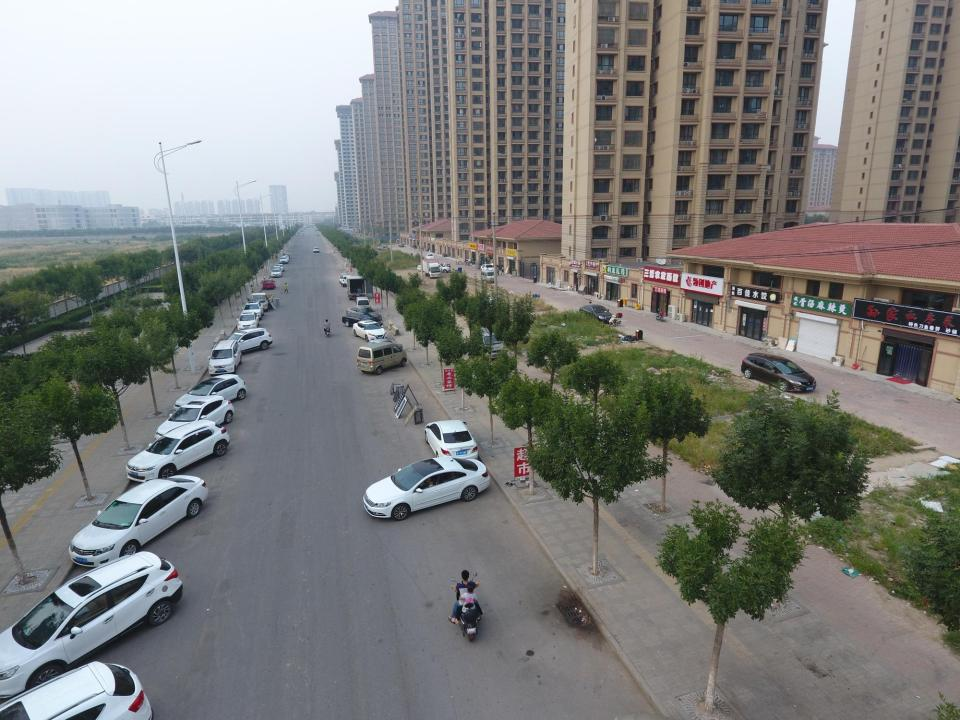car: (0, 550, 184, 699), (67, 474, 208, 569), (1, 660, 154, 720), (362, 456, 492, 521), (126, 420, 231, 483), (154, 395, 237, 445), (173, 374, 247, 416), (740, 352, 816, 392), (424, 419, 479, 465), (216, 327, 273, 358), (360, 339, 403, 362), (352, 320, 388, 342), (345, 306, 383, 324), (578, 304, 614, 323), (342, 311, 383, 327), (241, 301, 264, 321), (237, 312, 259, 332), (425, 264, 451, 273), (417, 263, 442, 271), (262, 278, 276, 290), (481, 264, 496, 274), (342, 275, 353, 288), (338, 273, 349, 284), (270, 268, 282, 278), (275, 264, 285, 272), (279, 256, 288, 264), (272, 266, 282, 273), (280, 256, 290, 262), (426, 254, 434, 260), (312, 246, 320, 252), (377, 246, 389, 250), (283, 253, 290, 259), (398, 243, 405, 247)
truck: (346, 276, 366, 300), (422, 258, 441, 279)
van: (356, 341, 407, 375), (207, 340, 242, 376), (471, 327, 503, 360), (247, 292, 274, 312), (354, 297, 370, 313), (480, 269, 496, 283)
